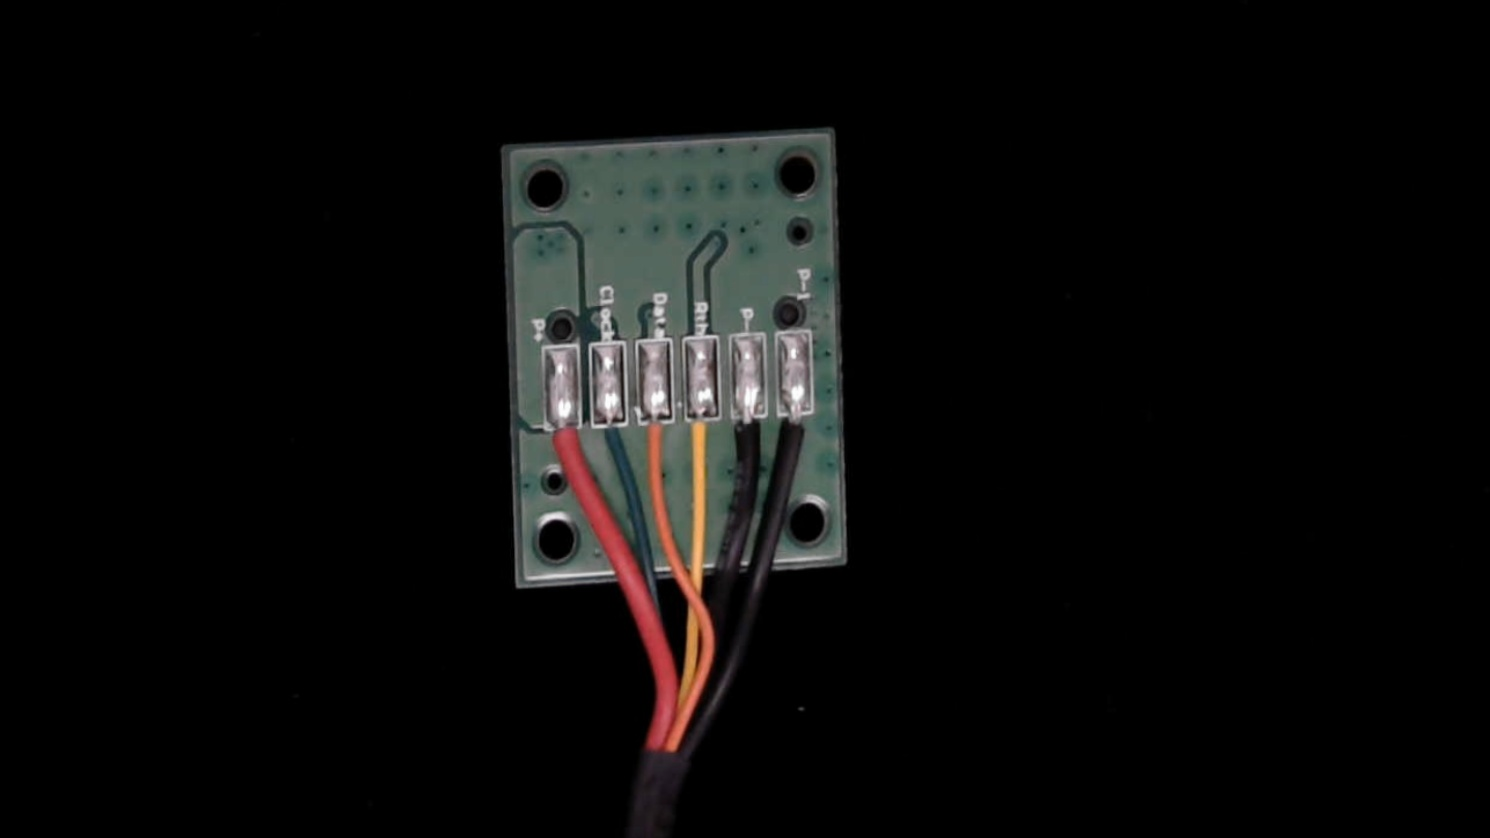Black: (731, 394, 765, 470)
Black1: (778, 393, 812, 478)
Green: (591, 397, 627, 481)
Orange: (638, 397, 672, 487)
Red: (544, 400, 582, 477)
Yellow: (686, 395, 717, 482)
